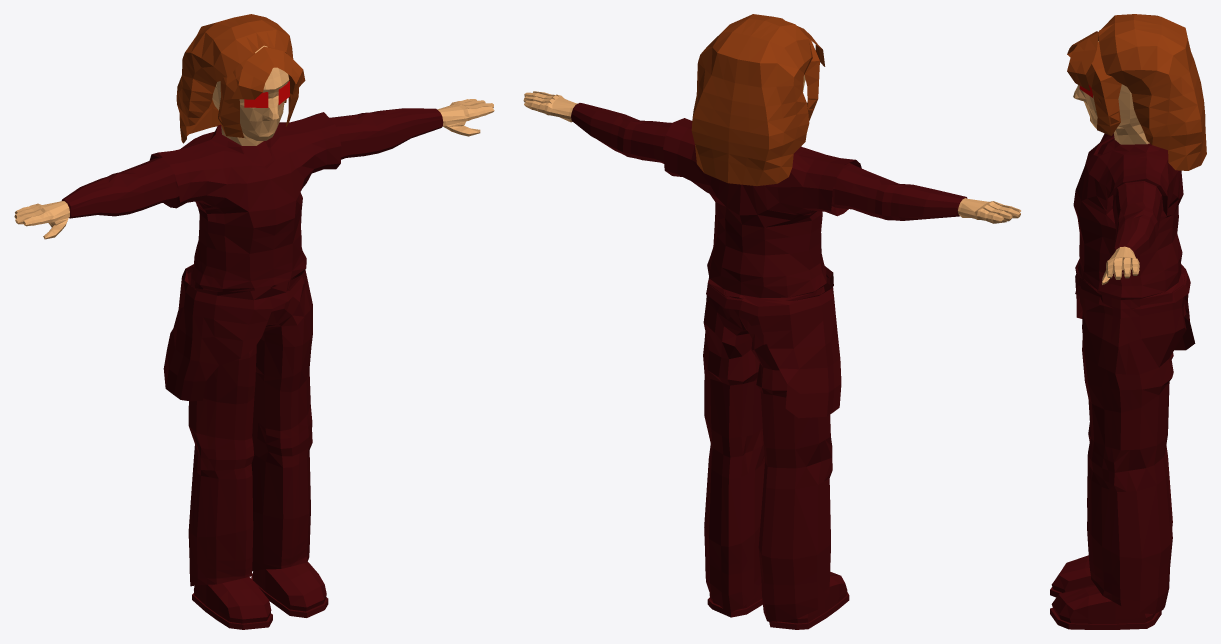
The model's file is Pannochka.fbx_Scene.fbx.
The picture shows the model from 3 angles, left to right: view 1: azimuth 30°, elevation 25°; view 2: azimuth 150°, elevation 25°; view 3: azimuth 270°, elevation 25°; orthographic projection. The views are drawn at different scales.
Visible parts, largest first — view 1: corpo; view 2: corpo; view 3: corpo.
Part boxes in pixels (x1,y1,x2,y2): corpo: [14, 14, 494, 629]; corpo: [523, 14, 1020, 629]; corpo: [1050, 14, 1206, 629].
Size of the model in its own units: 144 by 165 by 40.12.
